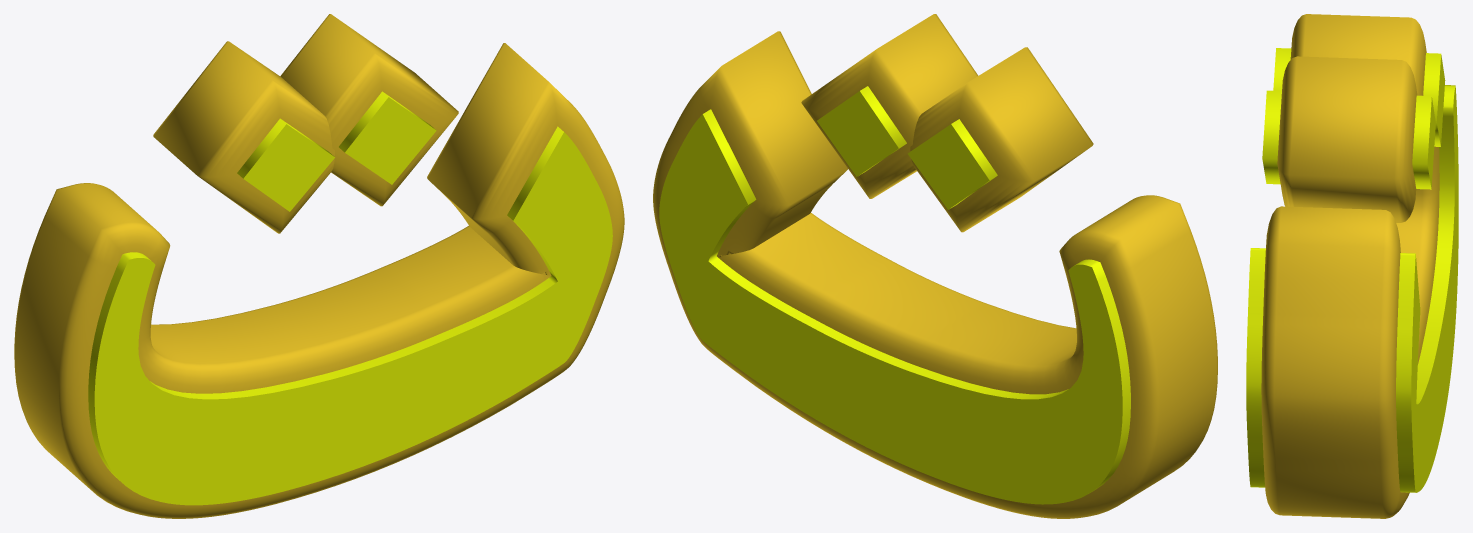
The picture shows the model from 3 angles, left to right: view 1: azimuth 30°, elevation 25°; view 2: azimuth 150°, elevation 25°; view 3: azimuth 270°, elevation 25°; orthographic projection. The views are drawn at different scales.
Visible parts, largest first — view 1: text 2, Text; view 2: text 2, Text; view 3: text 2, Text.
Part boxes in pixels (x1,y1,x2,y2): text 2: (14,14,624,518); Text: (88,91,612,505); text 2: (653,14,1217,518); Text: (659,86,1130,504); text 2: (1261,14,1439,518); Text: (1246,48,1458,492).
Size of the model in its own units: 48.01 by 36.18 by 15.61.
